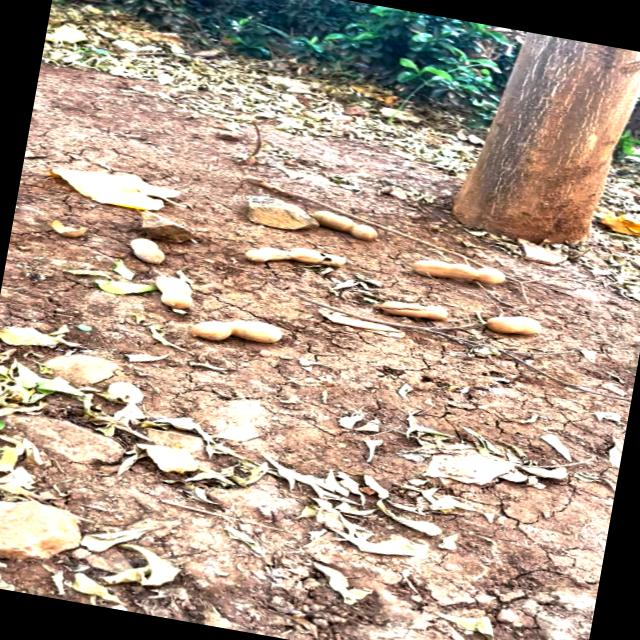tamarind: (189, 308, 298, 356), (251, 236, 355, 278), (411, 250, 510, 292), (306, 205, 385, 250), (370, 292, 451, 328), (149, 270, 203, 314), (483, 306, 552, 340), (124, 234, 172, 267)
